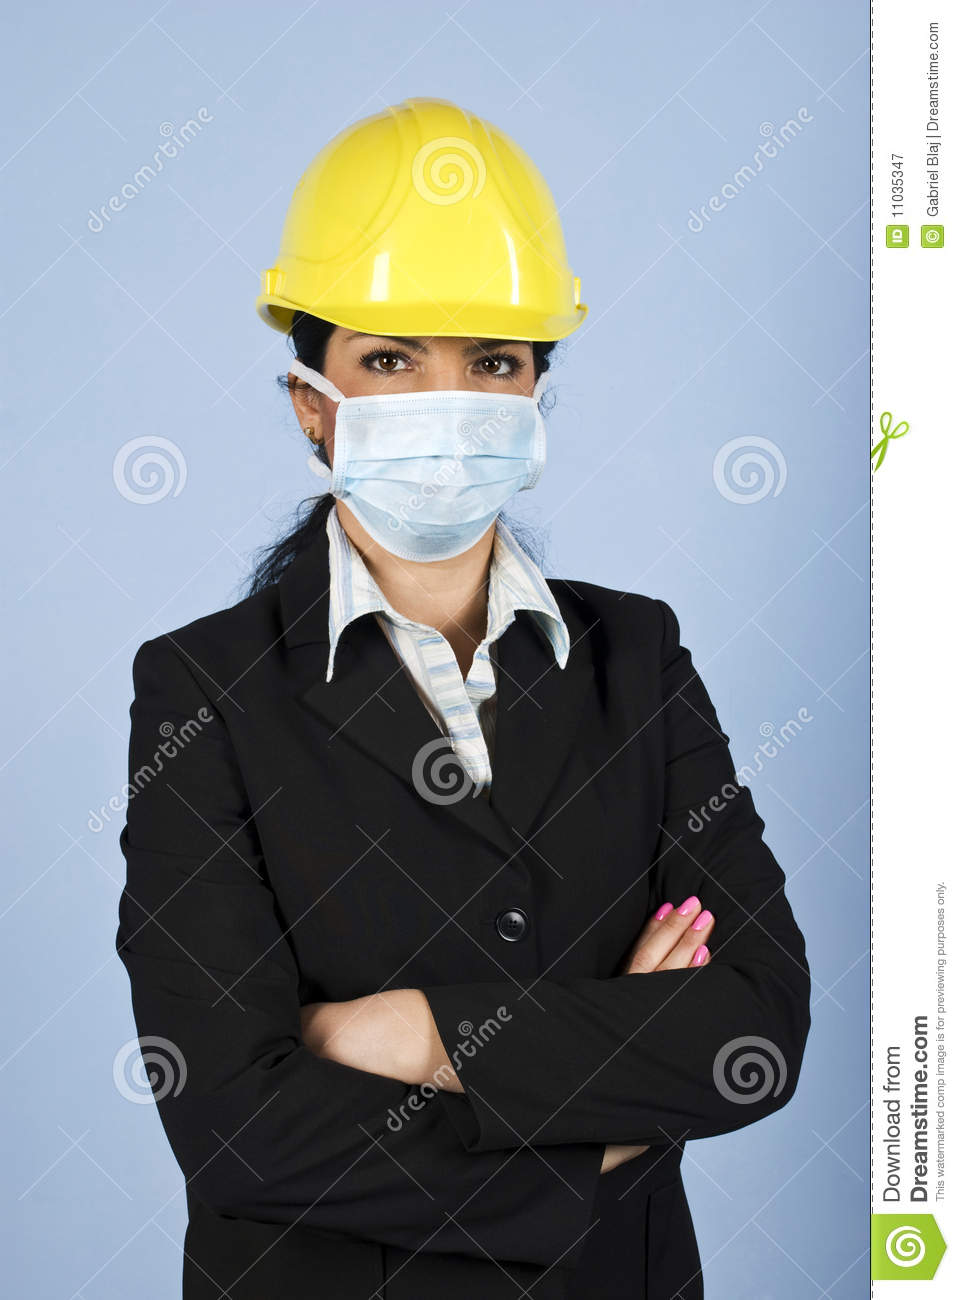mask: (332, 388, 552, 558)
